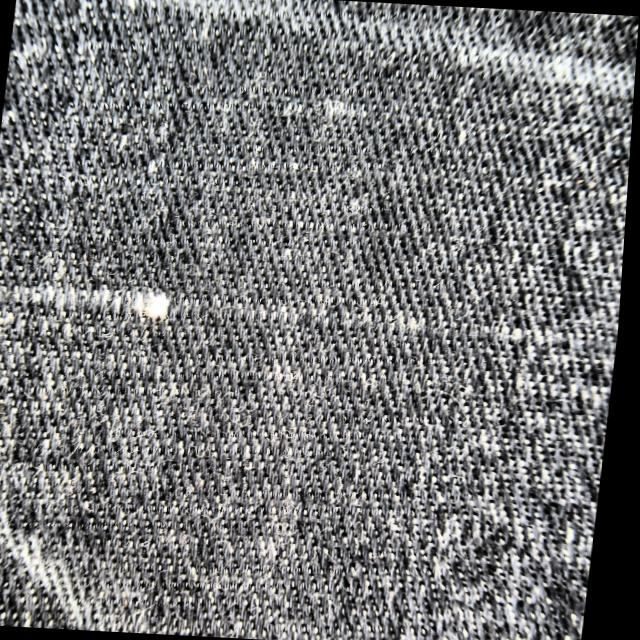Hole: (4, 278, 421, 336)
